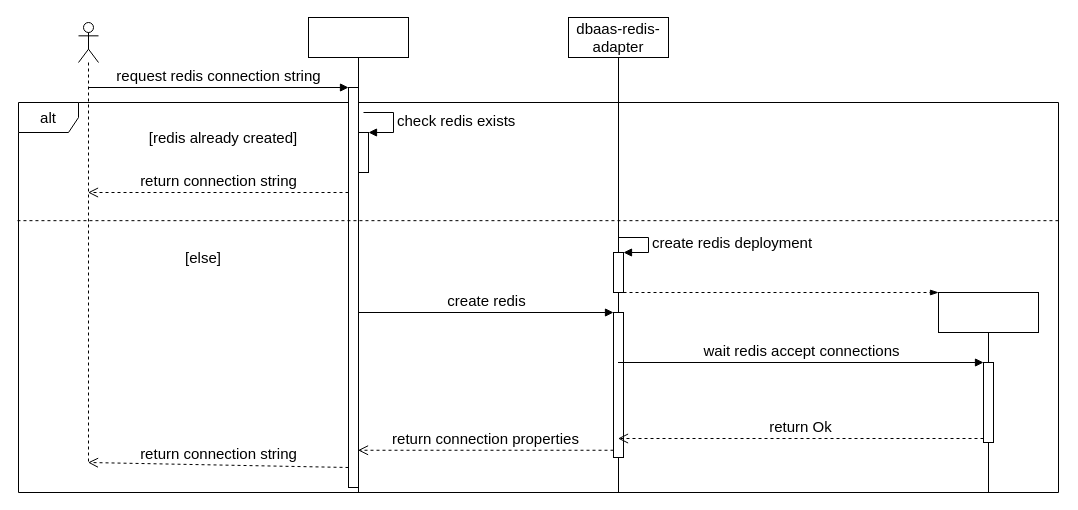
Image size: 1078x510. Some labels were removed from this diagram. The centre of each missing label's shape, as x and y in pixels:
"Dbaas" belongs at (358,254).
"redis pod" belongs at (988,392).
